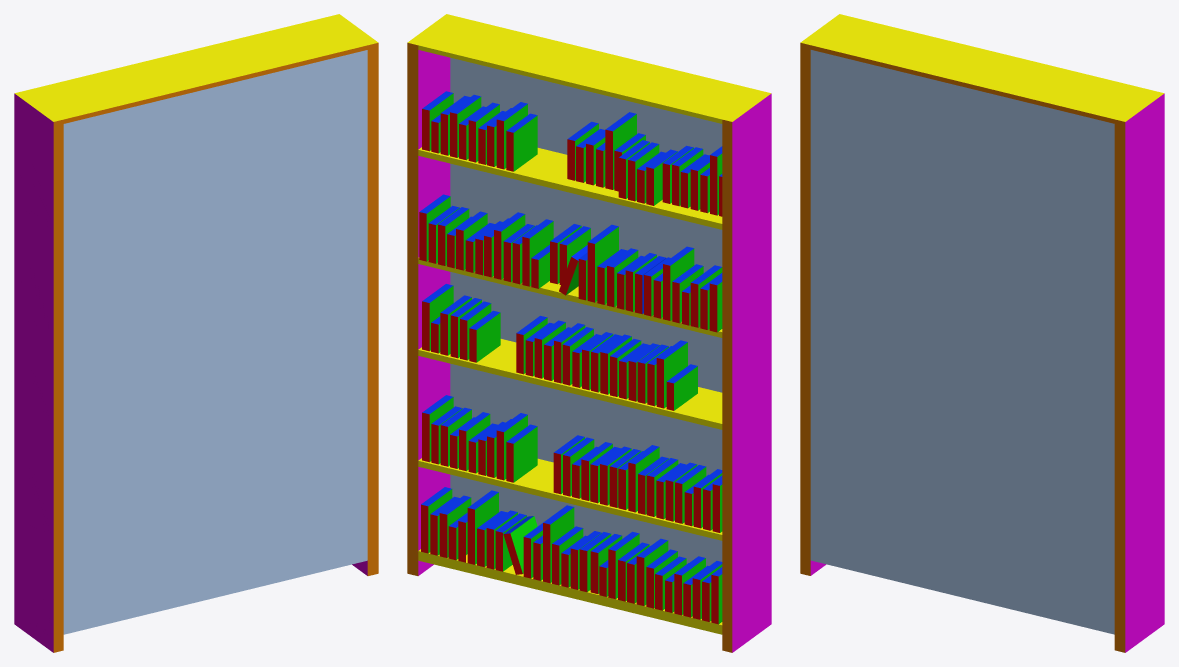
File: BookShelf v3 FINAL.fbx
3 views of the same model, side by side, from view 1: azimuth 30°, elevation 25°; view 2: azimuth 150°, elevation 25°; view 3: azimuth 330°, elevation 25° (orthographic).
Visible parts, largest first — view 1: single_bookshelf; view 2: single_bookshelf; view 3: single_bookshelf.
Boxes of the visible parts, left/top/right/bottom form: single_bookshelf: left=14, top=14, right=378, bottom=652; single_bookshelf: left=407, top=14, right=771, bottom=652; single_bookshelf: left=800, top=14, right=1164, bottom=652.
Bounding box in the file's own units: 236 × 369 × 51.33.
